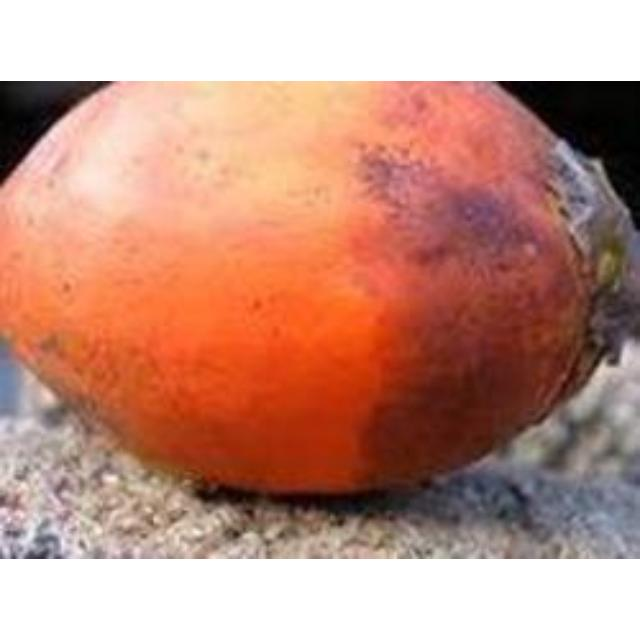good: (0, 81, 637, 501)
